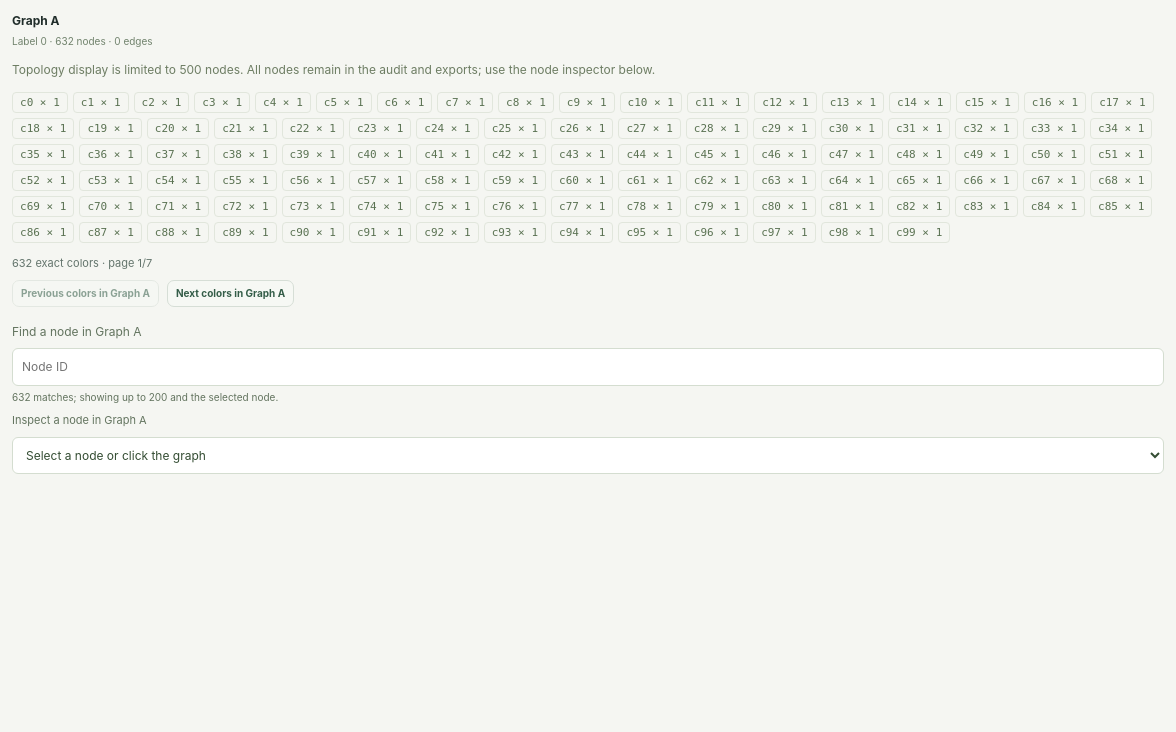
Test: large graph inspection searches every node while bounding option and histogram rendering
The width and height of the screenshot is (1176, 732).
Expected: the text "Topology display is limited to 500 nodes" is shown, [12,62,655,77]
Type "node-631" into the field labelled "Find a node in Graph A".
click(588, 367); type("node-631")  # box [12,348,1164,386]
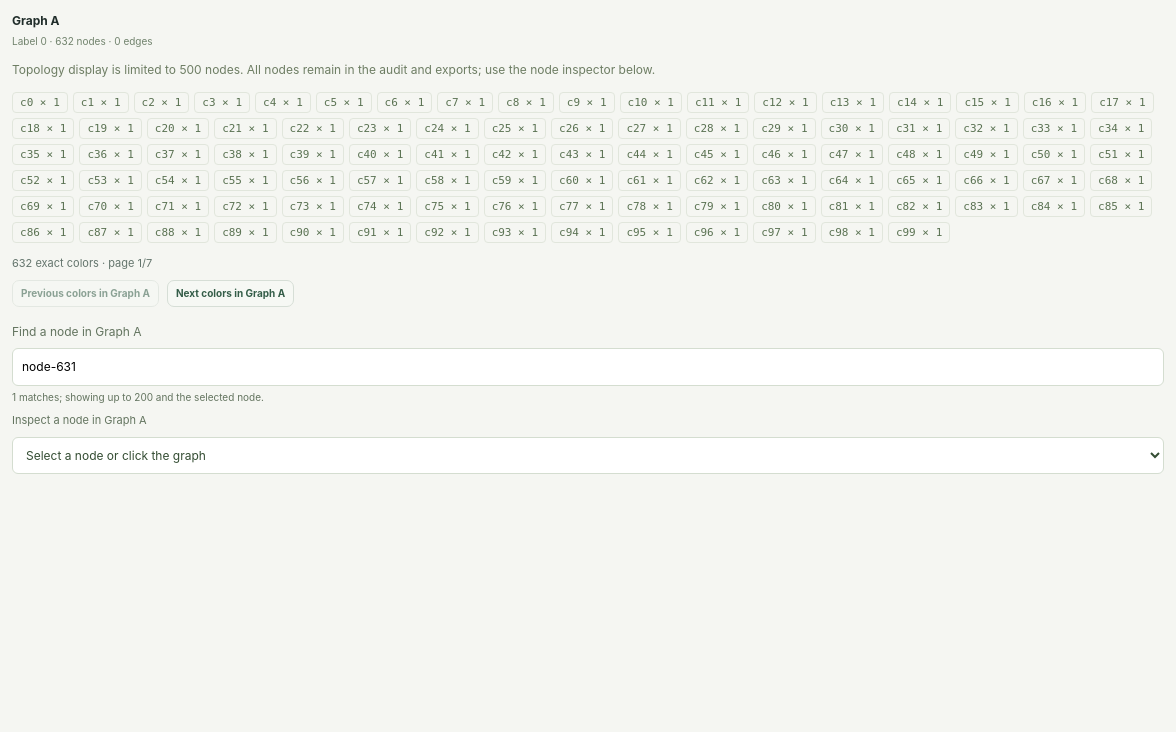
Select "node-631" in the dropdown labelled "Inspect a node in Graph A" at (588, 455), box [12,437,1164,474]
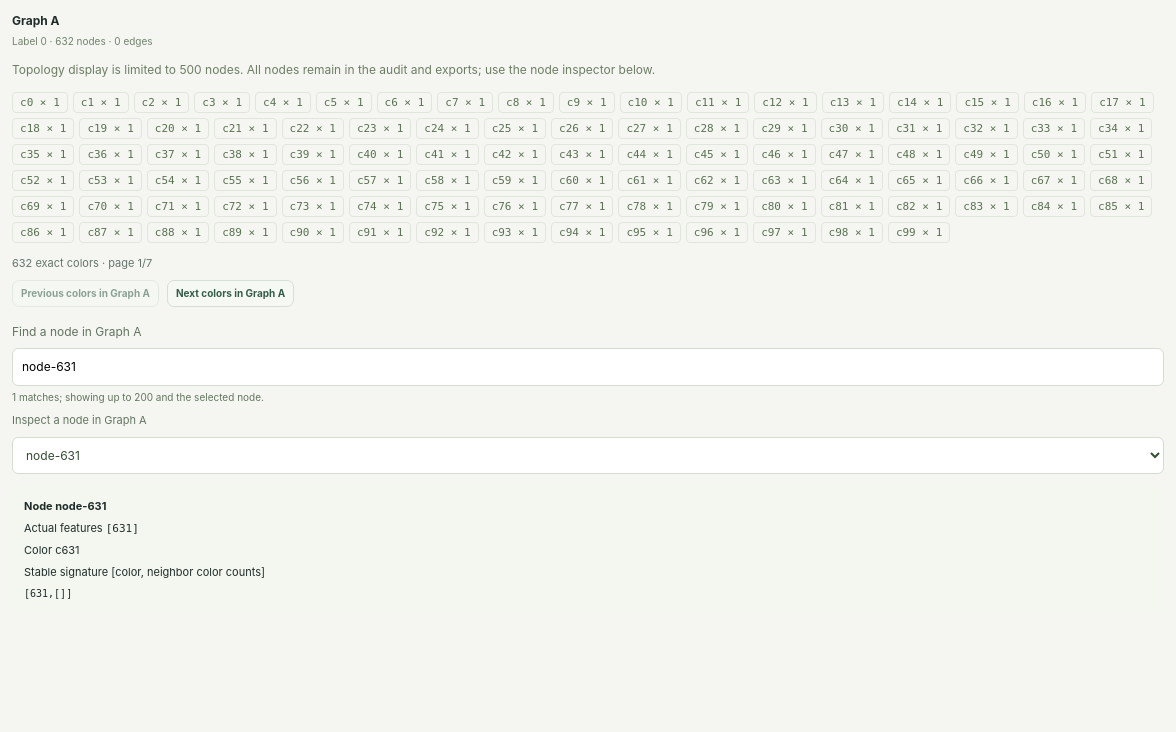
Expected: the text "[631]" reads "Actual features [631]", [24,521,139,535]
Expected: the text "Stable signature [color, neighbor color counts]" is shown, [24,565,265,579]
Click the button "Next colors in Graph A".
click(230, 293)  # box [167,280,294,307]
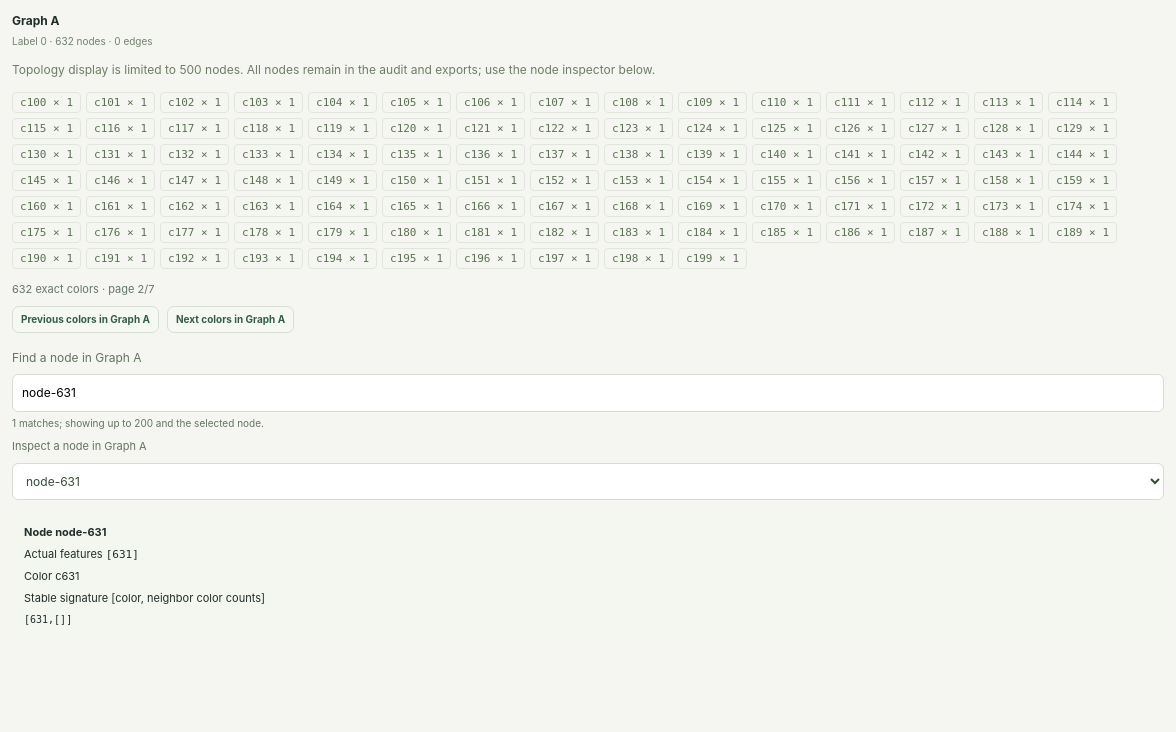
Expected: the text "632 exact colors · page 2/7" is shown, [12,282,154,296]
